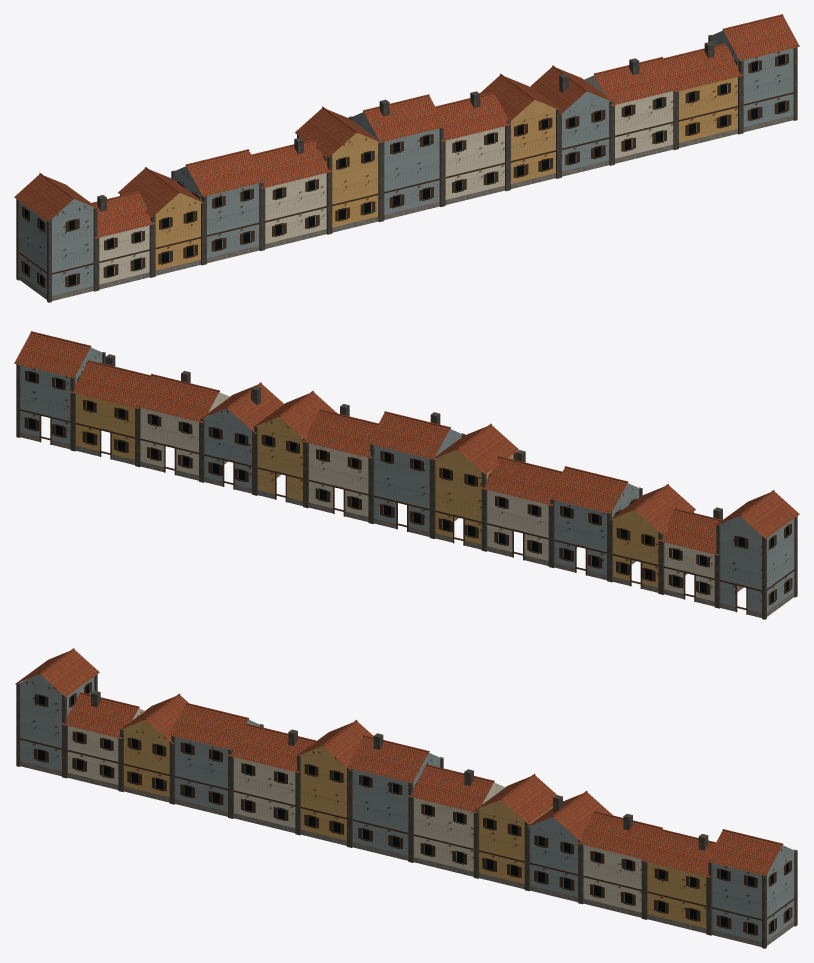
The model's file is SM_Art_TownRow_8800S.gltf.
3 renders of one model, top to bottom at view 1: azimuth 30°, elevation 25°; view 2: azimuth 150°, elevation 25°; view 3: azimuth 330°, elevation 25°, orthographic.
Visible parts, largest first — view 1: SM_Art_TownRow_8800S; view 2: SM_Art_TownRow_8800S; view 3: SM_Art_TownRow_8800S.
Boxes of the visible parts, x1,y1,x2,y2 form: SM_Art_TownRow_8800S: [14, 14, 799, 302]; SM_Art_TownRow_8800S: [14, 331, 799, 619]; SM_Art_TownRow_8800S: [15, 648, 797, 948].
Size of the model in its own units: 85.27 by 11.54 by 6.7.
Materials: 8 (7 with a texture image).
